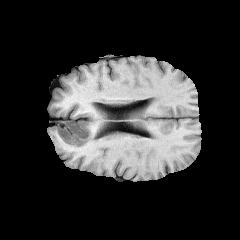glioma: (59, 120, 97, 147)
